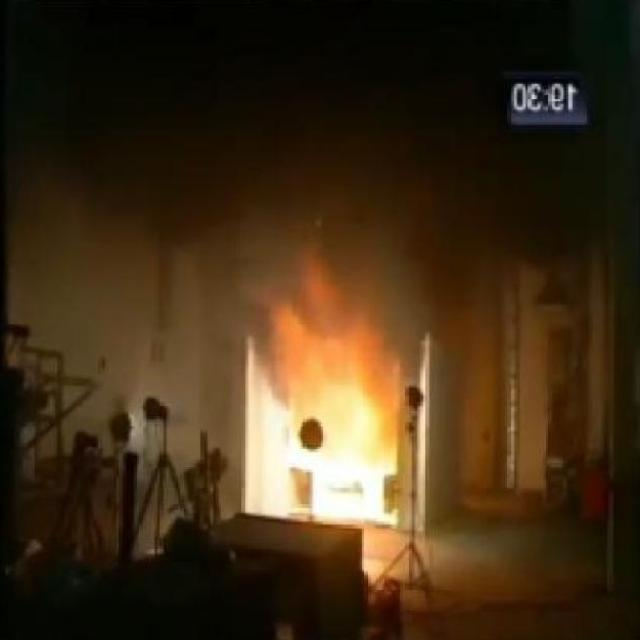smoke: (267, 228, 406, 484)
